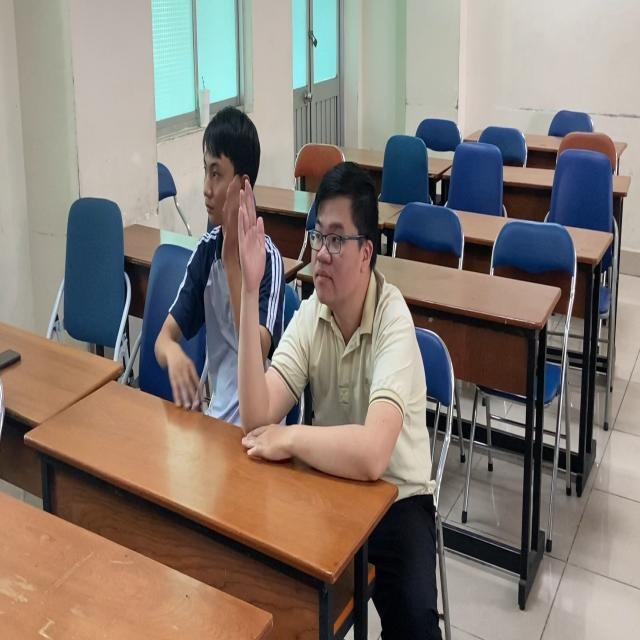raise_hand: (237, 148, 441, 511)
